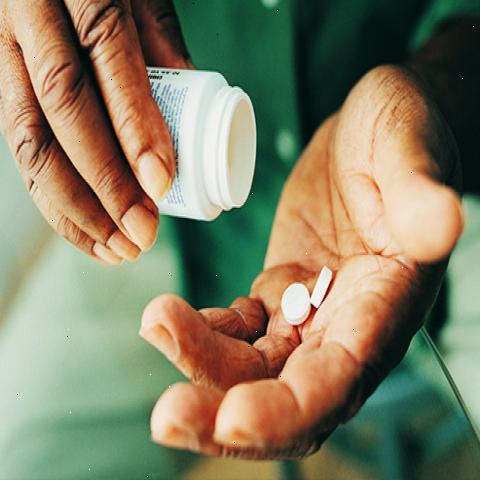Pill: (309, 261, 342, 319), (274, 280, 312, 328)
